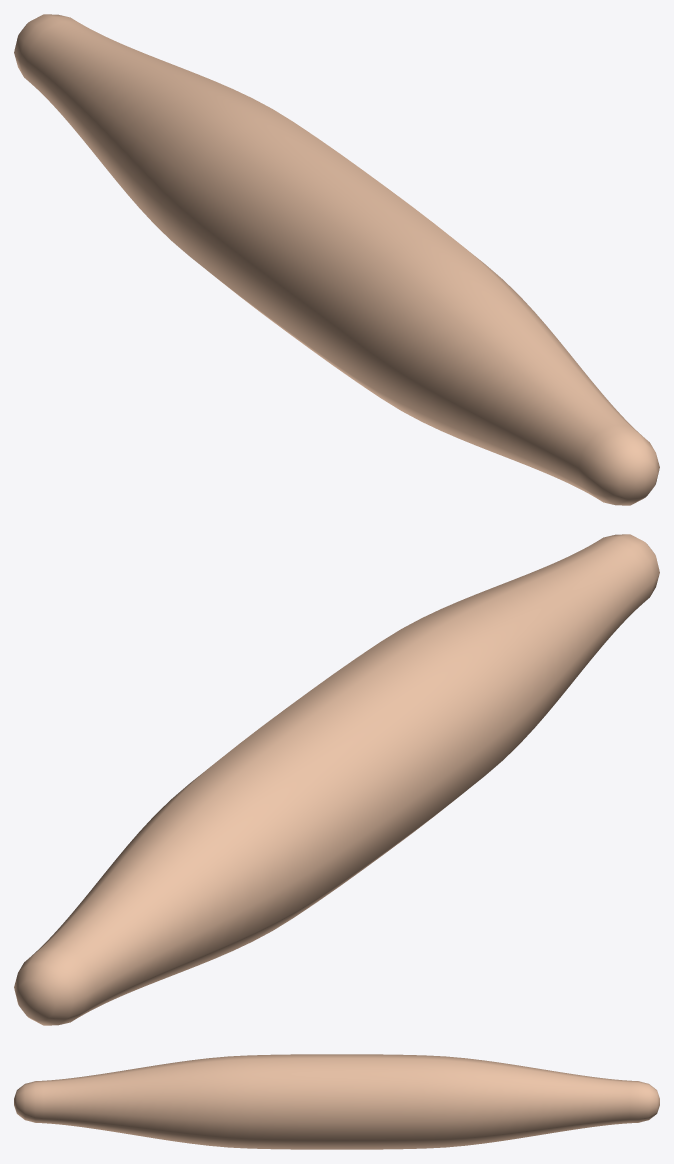
The model's file is Stage_1.glb.
3 views of the same model, one above another, from view 1: azimuth 30°, elevation 25°; view 2: azimuth 150°, elevation 25°; view 3: azimuth 270°, elevation 25° (orthographic). The views are drawn at different scales.
Visible parts, largest first — view 1: Stage1; view 2: Stage1; view 3: Stage1.
Part boxes in pixels (x1,y1,x2,y2): Stage1: (14,14,659,505); Stage1: (14,534,659,1025); Stage1: (14,1054,659,1149).
Size of the model in its own units: 0.2537 by 0.2537 by 1.71.
